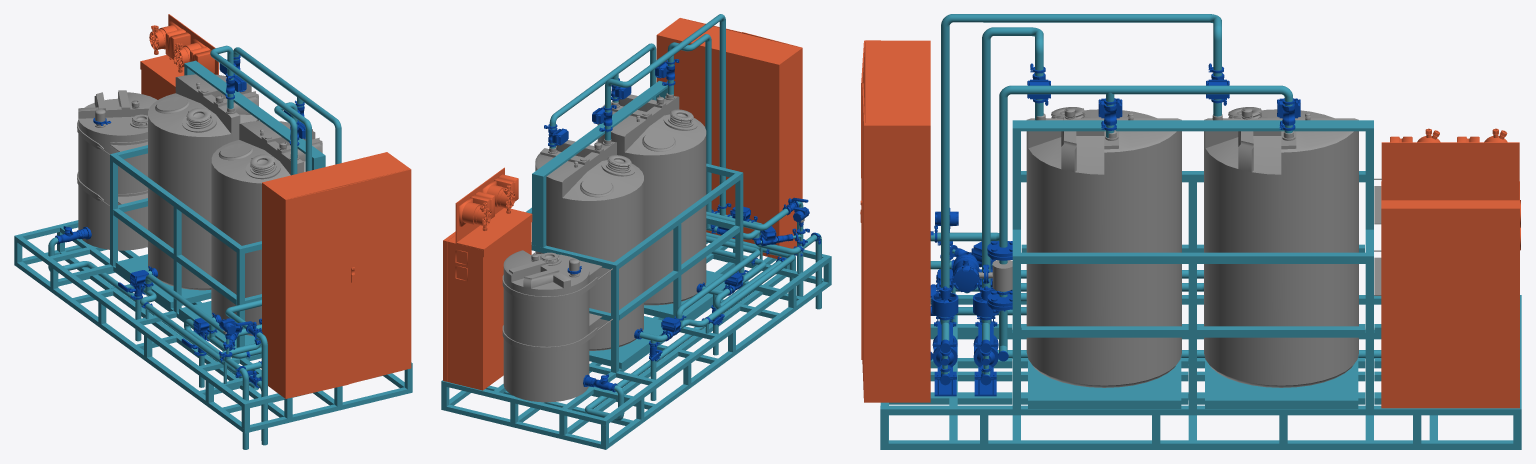
The picture shows the model from 3 angles, left to right: view 1: azimuth 30°, elevation 25°; view 2: azimuth 150°, elevation 25°; view 3: azimuth 270°, elevation 25°; orthographic projection. The views are drawn at different scales.
Parts seen in each view (by area): view 1: 10025_4, 10025_3, 10025_2, 10025_1, 10025_5; view 2: 10025_3, 10025_4, 10025_2, 10025_1, 10025_5; view 3: 10025_2, 10025_3, 10025_4, 10025_5, 10025_6, 10025_1.
Boxes of the visible parts, x1,y1,x2,y2 form: 10025_4: (140,14,411,398); 10025_3: (14,45,412,449); 10025_2: (148,74,322,335); 10025_1: (77,90,157,250); 10025_5: (55,55,305,387); 10025_3: (441,14,831,449); 10025_4: (443,18,802,390); 10025_2: (535,93,706,350); 10025_1: (502,250,612,402); 10025_5: (544,59,820,392); 10025_2: (1026,107,1358,387); 10025_3: (880,14,1521,449); 10025_4: (860,40,1520,408); 10025_5: (930,63,1300,396); 10025_6: (950,226,1012,291); 10025_1: (1374,178,1381,295).
Size of the model in its own units: 1.34 by 2.24 by 3.28.
